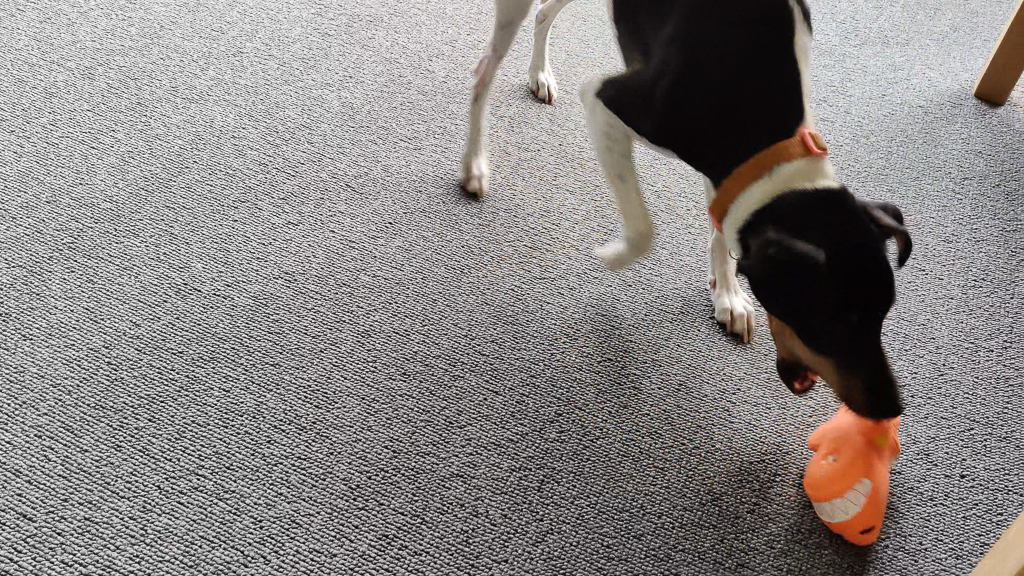Dog: (438, 0, 937, 454)
